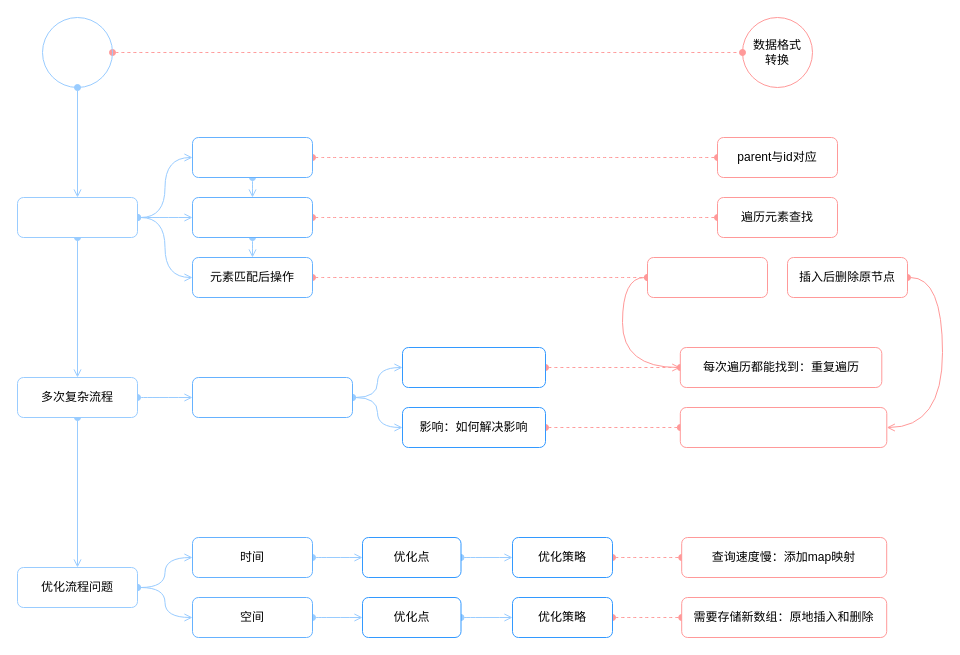
The diagram is 960 pixels wide and 655 high, and some of its shapes have lost their labels. Each missing label, with the centre of its shape:
不影响：重复单次流程: (474,367)
元素间关联: (252,157)
再次遍历可能找不到：递归children: (783,427)
单次操作后对原流程的影响: (272,397)
单次简单流程: (77,217)
如何查找对应元素: (252,217)
插入子节点数组: (707,277)
问题类型: (77,52)
